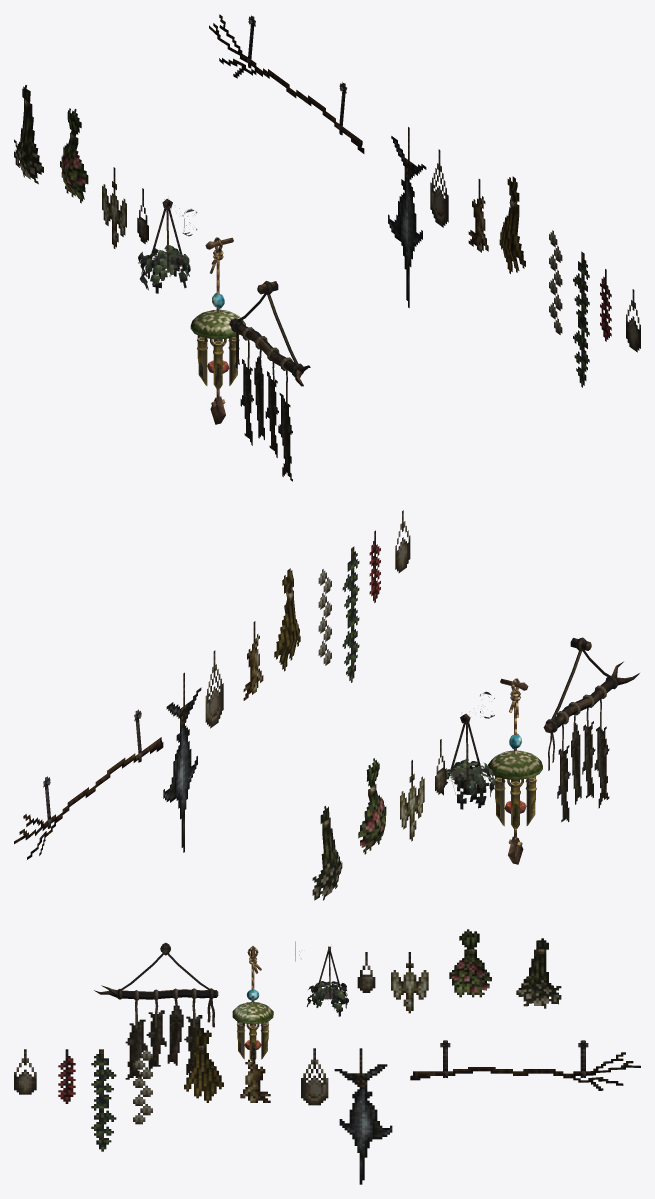
Rendered from EnvObjMD_Hang_A_Bird_A.FBX.
3 views of the same model, one above another, from view 1: azimuth 30°, elevation 25°; view 2: azimuth 150°, elevation 25°; view 3: azimuth 270°, elevation 25° (orthographic). The views are drawn at different scales.
Visible parts, largest first — view 1: EnvObjMD_Hang_C_RiverFish_A, EnvObjMD_Hang_D_Windbell_A, EnvObjMD_Hang_B_Marlin_A, EnvObjMD_Hang_E_Plant_A_Pot_A, EnvObjMD_Hang_Flower_A_Prop_A, EnvObjMD_Hang_Flower_A_Bouquet_C, EnvObjMD_Hang_Flower_A_Bouquet_A, EnvObjMD_Hang_Flower_A_Bouquet_B, EnvObjMD_Hang_Flower_A_Bouquet_D, EnvObjMD_Hang_A_Bird_A, EnvObjMD_Hang_B_Basket_A, EnvObjMD_Hang_A_Garlic_A (+1 smaller); view 2: EnvObjMD_Hang_C_RiverFish_A, EnvObjMD_Hang_D_Windbell_A, EnvObjMD_Hang_B_Marlin_A, EnvObjMD_Hang_E_Plant_A_Pot_A, EnvObjMD_Hang_Flower_A_Prop_A, EnvObjMD_Hang_Flower_A_Bouquet_C, EnvObjMD_Hang_Flower_A_Bouquet_A, EnvObjMD_Hang_Flower_A_Bouquet_B, EnvObjMD_Hang_Flower_A_Bouquet_D, EnvObjMD_Hang_A_Bird_A, EnvObjMD_Hang_B_Basket_A, EnvObjMD_Hang_A_Garlic_A (+2 smaller); view 3: EnvObjMD_Hang_C_RiverFish_A, EnvObjMD_Hang_B_Marlin_A, EnvObjMD_Hang_Flower_A_Prop_A, EnvObjMD_Hang_D_Windbell_A, EnvObjMD_Hang_Flower_A_Bouquet_C, EnvObjMD_Hang_Flower_A_Bouquet_A, EnvObjMD_Hang_Flower_A_Bouquet_B, EnvObjMD_Hang_Flower_A_Bouquet_D, EnvObjMD_Hang_E_Plant_A_Pot_A, EnvObjMD_Hang_A_Bird_A, EnvObjMD_Hang_B_Basket_A, EnvObjMD_Hang_A_Garlic_A (+4 smaller).
Boxes of the visible parts, left/top/right/bottom form: EnvObjMD_Hang_C_RiverFish_A: left=229, top=281, right=310, bottom=481; EnvObjMD_Hang_D_Windbell_A: left=190, top=237, right=245, bottom=424; EnvObjMD_Hang_B_Marlin_A: left=388, top=127, right=426, bottom=307; EnvObjMD_Hang_E_Plant_A_Pot_A: left=138, top=198, right=197, bottom=293; EnvObjMD_Hang_Flower_A_Prop_A: left=209, top=14, right=364, bottom=153; EnvObjMD_Hang_Flower_A_Bouquet_C: left=60, top=108, right=88, bottom=203; EnvObjMD_Hang_Flower_A_Bouquet_A: left=14, top=85, right=43, bottom=184; EnvObjMD_Hang_Flower_A_Bouquet_B: left=499, top=176, right=525, bottom=273; EnvObjMD_Hang_Flower_A_Bouquet_D: left=573, top=251, right=589, bottom=387; EnvObjMD_Hang_A_Bird_A: left=102, top=167, right=126, bottom=248; EnvObjMD_Hang_B_Basket_A: left=430, top=149, right=448, bottom=227; EnvObjMD_Hang_A_Garlic_A: left=549, top=230, right=562, bottom=334; EnvObjMD_Hang_C_RiverFish_A: left=543, top=637, right=639, bottom=822; EnvObjMD_Hang_D_Windbell_A: left=488, top=678, right=542, bottom=864; EnvObjMD_Hang_B_Marlin_A: left=163, top=672, right=201, bottom=852; EnvObjMD_Hang_E_Plant_A_Pot_A: left=441, top=691, right=496, bottom=809; EnvObjMD_Hang_Flower_A_Prop_A: left=14, top=709, right=163, bottom=859; EnvObjMD_Hang_Flower_A_Bouquet_C: left=358, top=758, right=386, bottom=854; EnvObjMD_Hang_Flower_A_Bouquet_A: left=312, top=806, right=342, bottom=900; EnvObjMD_Hang_Flower_A_Bouquet_B: left=274, top=568, right=300, bottom=671; EnvObjMD_Hang_Flower_A_Bouquet_D: left=342, top=546, right=359, bottom=682; EnvObjMD_Hang_A_Bird_A: left=400, top=760, right=424, bottom=841; EnvObjMD_Hang_B_Basket_A: left=205, top=650, right=223, bottom=728; EnvObjMD_Hang_A_Garlic_A: left=318, top=569, right=331, bottom=665; EnvObjMD_Hang_C_RiverFish_A: left=94, top=942, right=218, bottom=1079; EnvObjMD_Hang_B_Marlin_A: left=334, top=1048, right=392, bottom=1184; EnvObjMD_Hang_Flower_A_Prop_A: left=410, top=1040, right=640, bottom=1090; EnvObjMD_Hang_D_Windbell_A: left=232, top=946, right=273, bottom=1075; EnvObjMD_Hang_Flower_A_Bouquet_C: left=449, top=929, right=491, bottom=997; EnvObjMD_Hang_Flower_A_Bouquet_A: left=516, top=938, right=561, bottom=1008; EnvObjMD_Hang_Flower_A_Bouquet_B: left=184, top=1028, right=223, bottom=1102; EnvObjMD_Hang_Flower_A_Bouquet_D: left=91, top=1049, right=116, bottom=1151; EnvObjMD_Hang_E_Plant_A_Pot_A: left=295, top=941, right=348, bottom=1016; EnvObjMD_Hang_A_Bird_A: left=391, top=952, right=428, bottom=1013; EnvObjMD_Hang_B_Basket_A: left=301, top=1048, right=328, bottom=1105; EnvObjMD_Hang_A_Garlic_A: left=133, top=1049, right=152, bottom=1124.
Bounding box in the file's own units: 503 × 350 × 1250.
Materials: 8 (8 with a texture image).
